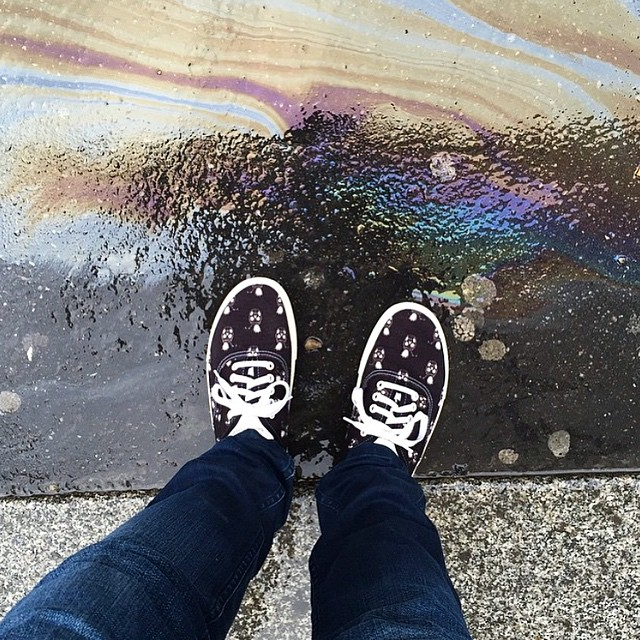sneaker: (329, 287, 469, 505), (194, 263, 310, 509)
